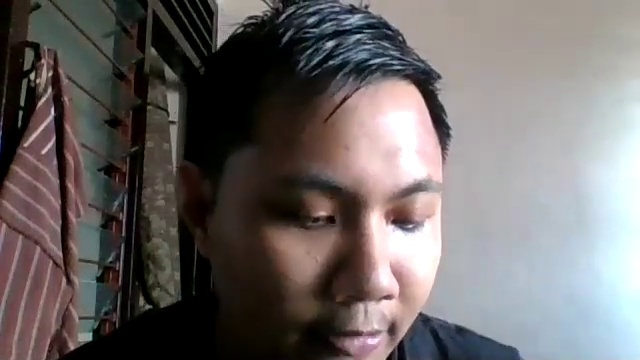Distracted: (186, 54, 447, 360)
